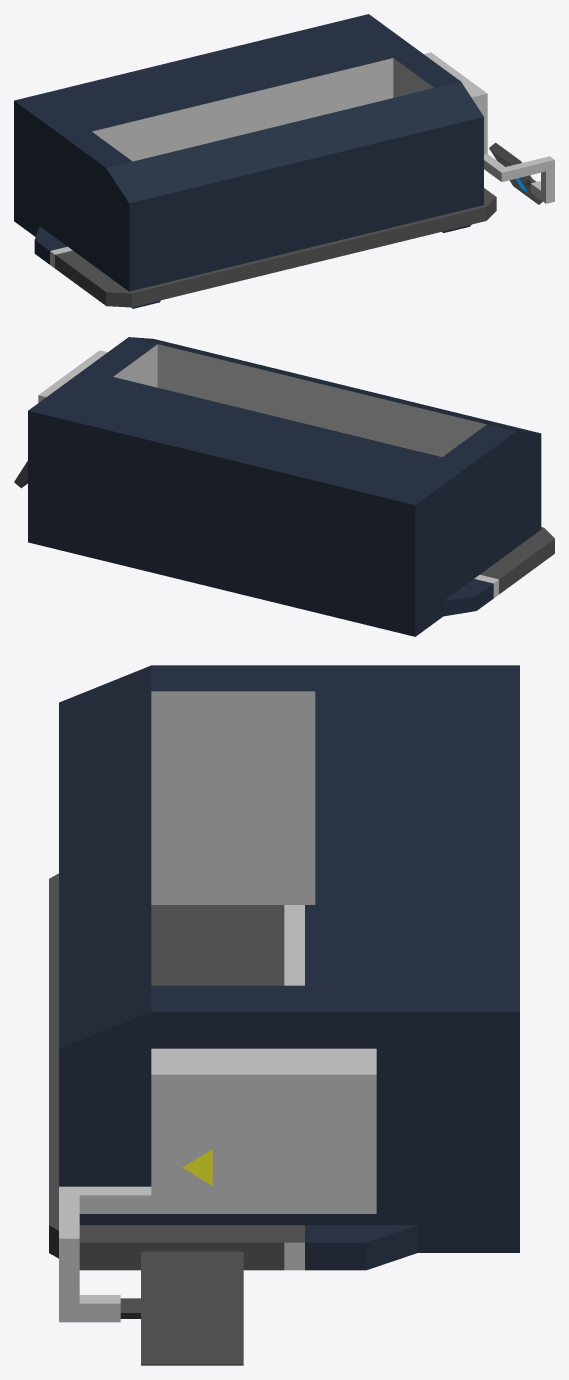
The model's file is cnc_bending_machine_1_state_2.dae.
3 views of the same model, one above another, from view 1: azimuth 30°, elevation 25°; view 2: azimuth 150°, elevation 25°; view 3: azimuth 270°, elevation 25° (orthographic). The views are drawn at different scales.
Parts seen in each view (by area): view 1: coords_ME_ID27_MA_jean_blue, coords_ME_ID87_MA_material_11, coords_ME_ID73_MA_material, coords_ME_ID19_MA_material_11, coords_ME_ID3_MA_material; view 2: coords_ME_ID27_MA_jean_blue, coords_ME_ID87_MA_material_11, coords_ME_ID73_MA_material, coords_ME_ID19_MA_material_11; view 3: coords_ME_ID27_MA_jean_blue, coords_ME_ID19_MA_material_11, coords_ME_ID87_MA_material_11, coords_ME_ID3_MA_material, coords_ME_ID73_MA_material, coords_ME_ID99_MA_material, coords_ME_ID11_MA_jean_blue.
Part boxes in pixels (x1,y1,x2,y2): coords_ME_ID27_MA_jean_blue: (14, 14, 483, 291); coords_ME_ID87_MA_material_11: (92, 58, 433, 161); coords_ME_ID73_MA_material: (55, 188, 496, 307); coords_ME_ID19_MA_material_11: (424, 52, 554, 203); coords_ME_ID3_MA_material: (489, 142, 542, 204); coords_ME_ID27_MA_jean_blue: (28, 337, 541, 636); coords_ME_ID87_MA_material_11: (113, 344, 486, 456); coords_ME_ID73_MA_material: (480, 527, 554, 594); coords_ME_ID19_MA_material_11: (38, 350, 107, 402); coords_ME_ID27_MA_jean_blue: (59, 665, 519, 1270); coords_ME_ID19_MA_material_11: (59, 1048, 376, 1322); coords_ME_ID87_MA_material_11: (151, 691, 315, 985); coords_ME_ID3_MA_material: (120, 1251, 243, 1365); coords_ME_ID73_MA_material: (49, 873, 304, 1270); coords_ME_ID99_MA_material: (151, 905, 284, 985); coords_ME_ID11_MA_jean_blue: (305, 905, 315, 985).
Size of the model in its own units: 60.53 by 20.08 by 27.17.
